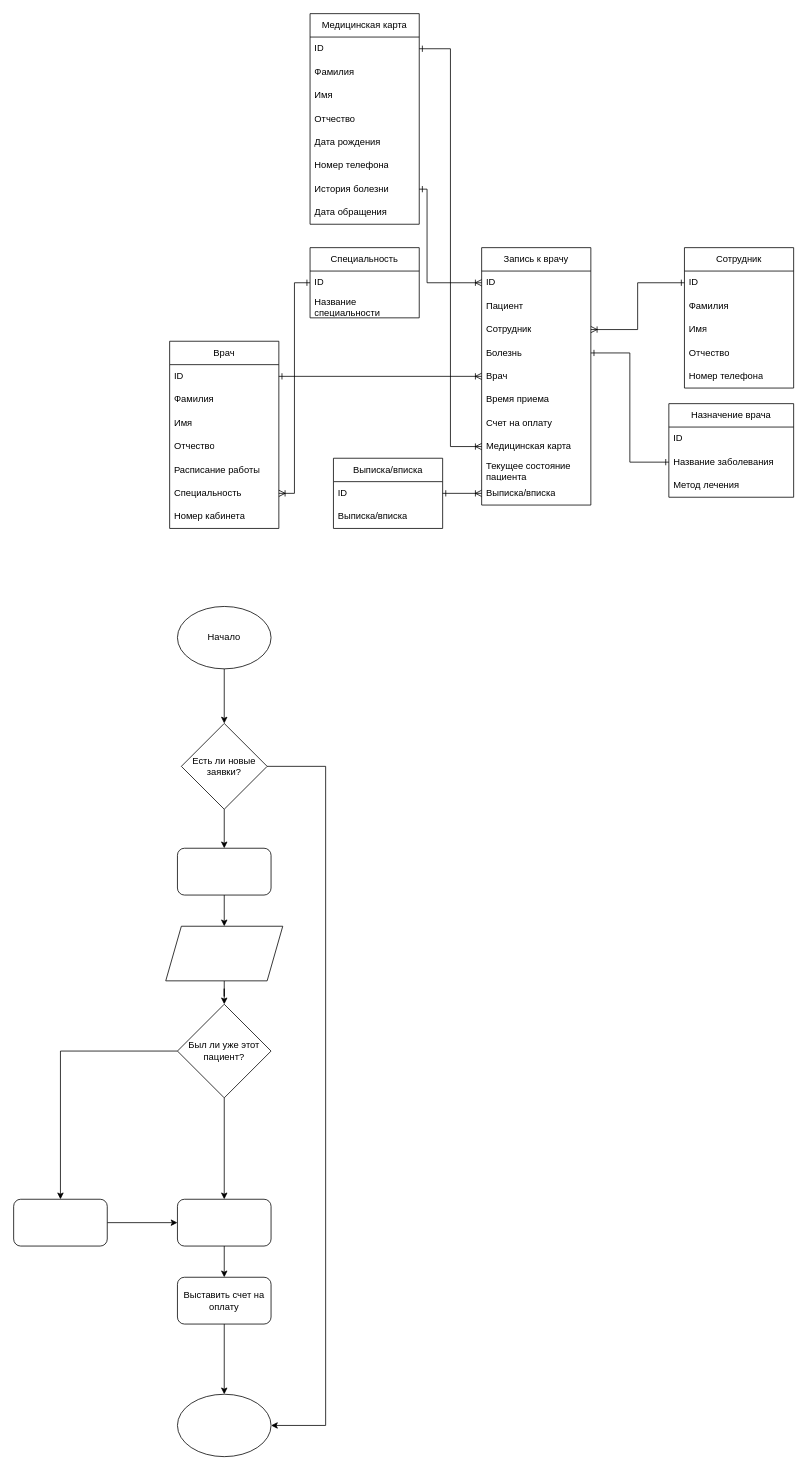
Some shapes in this 807 by 1470 pixel diagram are drawn without their labels. The centre of each missing label's shape, as x and y in pixels:
Данные из таблицы Пациент: the point at 224,953
Конец: the point at 224,1425
Назначить врача: the point at 224,1222
Обработать заявку: the point at 224,871
Создать новую карточку: the point at 60,1222
